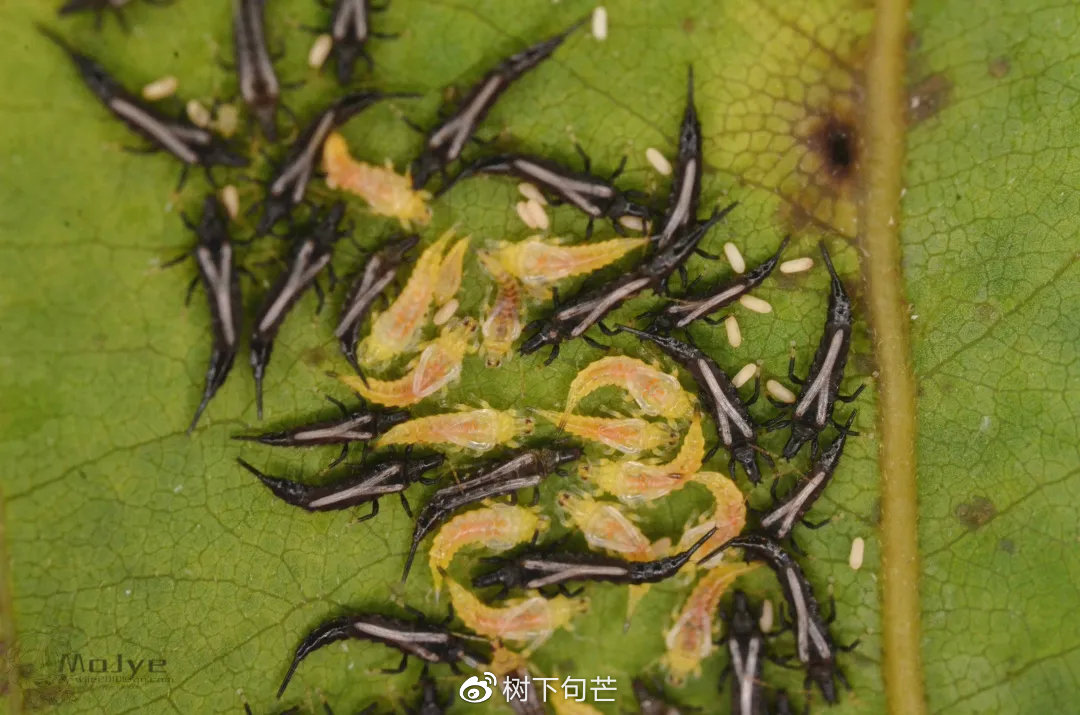Phlaeothripidae: (37, 27, 254, 190), (396, 435, 592, 585), (422, 14, 588, 189), (242, 190, 354, 416), (267, 81, 419, 236), (625, 326, 764, 491), (164, 197, 258, 440), (270, 603, 494, 704), (732, 535, 862, 704), (776, 244, 873, 464), (468, 519, 718, 602), (433, 152, 648, 235), (519, 256, 667, 365), (202, 3, 305, 157), (748, 414, 859, 554), (237, 453, 444, 523), (337, 232, 425, 393), (646, 61, 718, 255), (699, 578, 787, 715), (233, 395, 426, 456), (309, 1, 397, 73)
